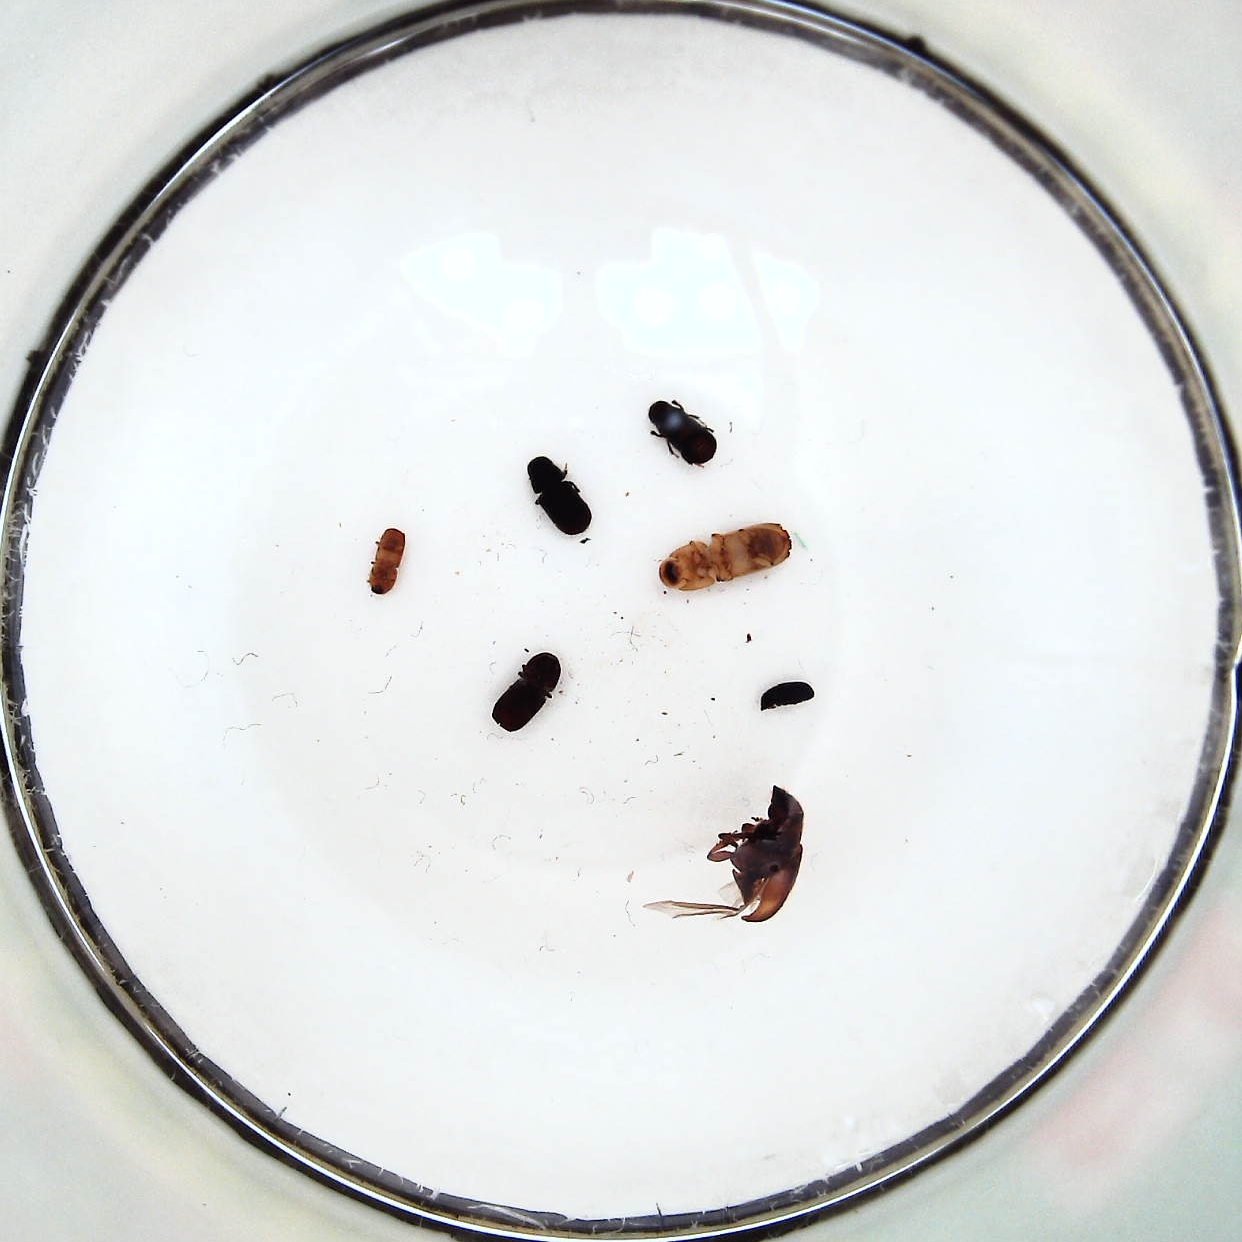Boerner: (659, 520, 792, 593)
Leconte: (704, 784, 809, 921)
Linnaeus: (492, 646, 563, 734)
acuminatus: (369, 521, 409, 597)
armandi: (523, 452, 594, 538), (646, 394, 722, 469)
coleoptera: (757, 677, 822, 715)
